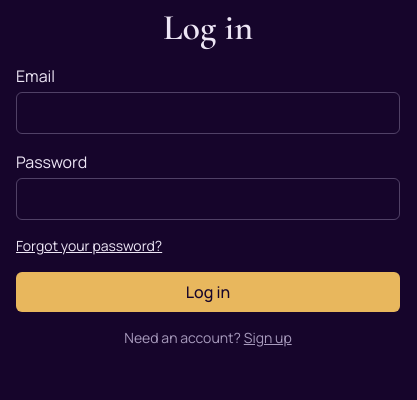
Test: a login error shows GoTrue's own message and does not redirect
Type "nightowl@example.com" into the field labelled "Email" at (208, 113), box [16,92,400,134]
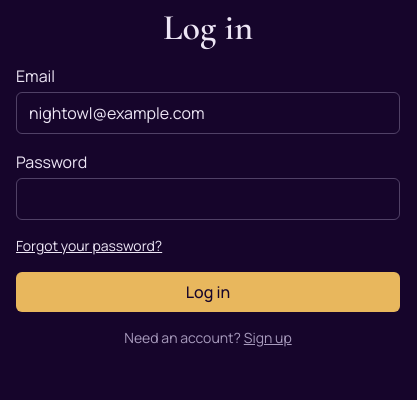
Type "Sup3r$ecret1" into the password field labelled "Password" at (208, 199), box [16,178,400,220]
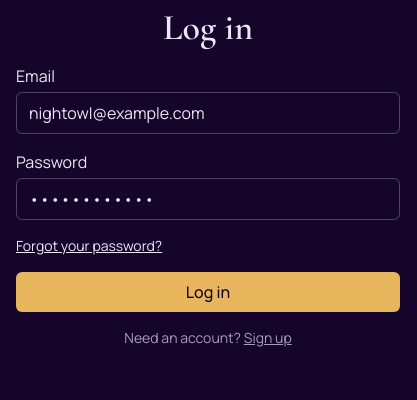
Click the button "Log in" at (208, 292), box [16,272,400,312]
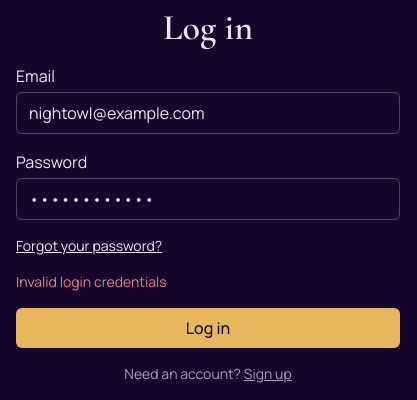
Expected: the text "Invalid login credentials" is shown, [16,272,167,291]
